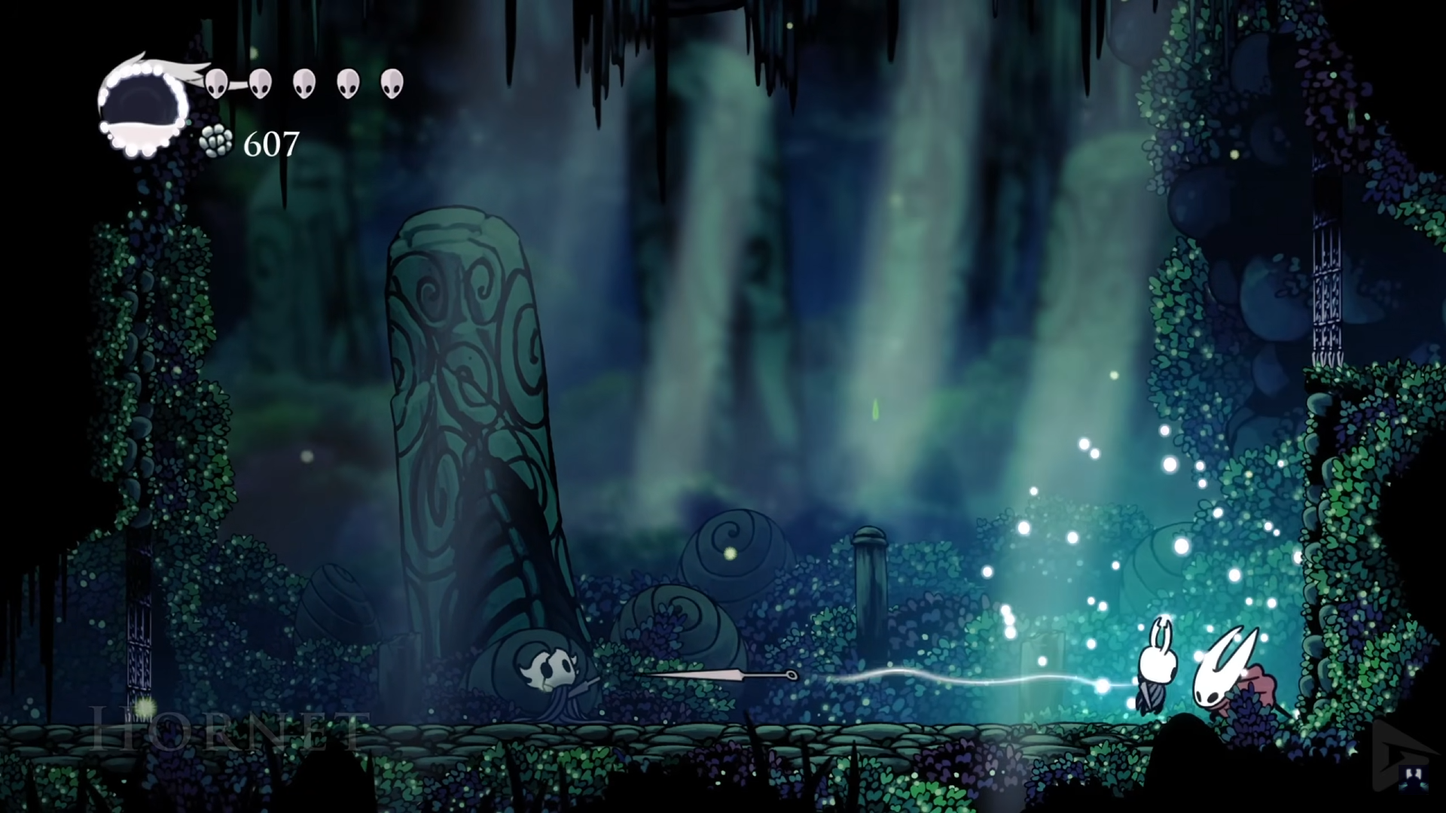HK: (1128, 615, 1184, 720)
